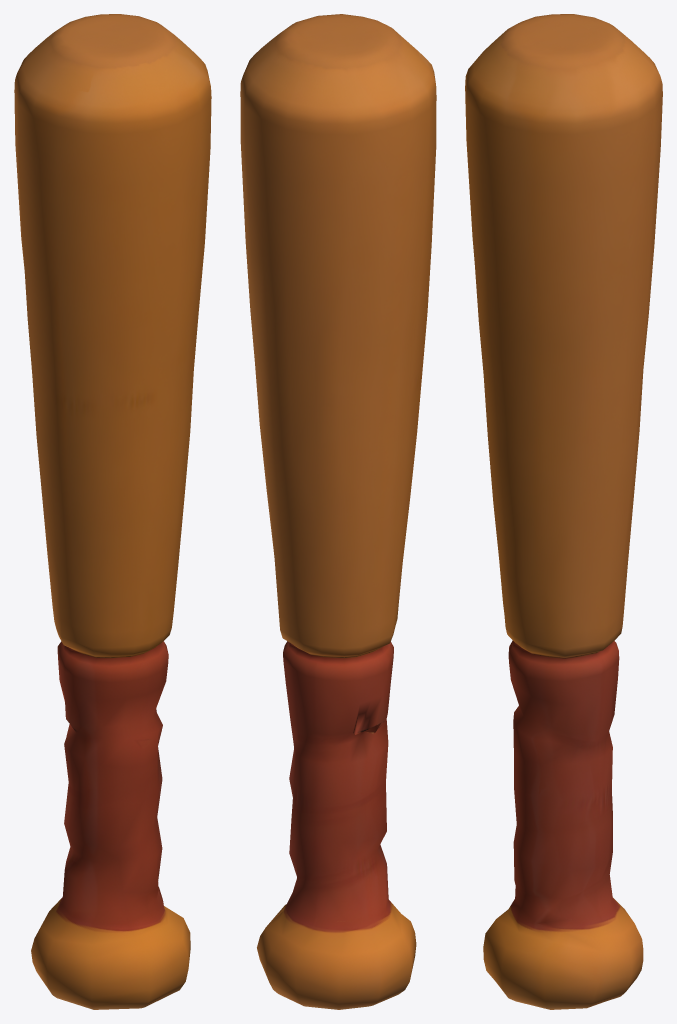
Rendered from Wooden_Mallet_1214160423_texture.fbx.
The picture shows the model from 3 angles, left to right: view 1: azimuth 30°, elevation 25°; view 2: azimuth 150°, elevation 25°; view 3: azimuth 270°, elevation 25°; orthographic projection.
Parts seen in each view (by area): view 1: input; view 2: input; view 3: input.
Part boxes in pixels (x1,y1,x2,y2): input: (14, 14, 211, 1009); input: (240, 14, 436, 1009); input: (465, 14, 662, 1009).
Size of the model in its own units: 35.78 by 192 by 35.95.
1 material, 1 textured.
